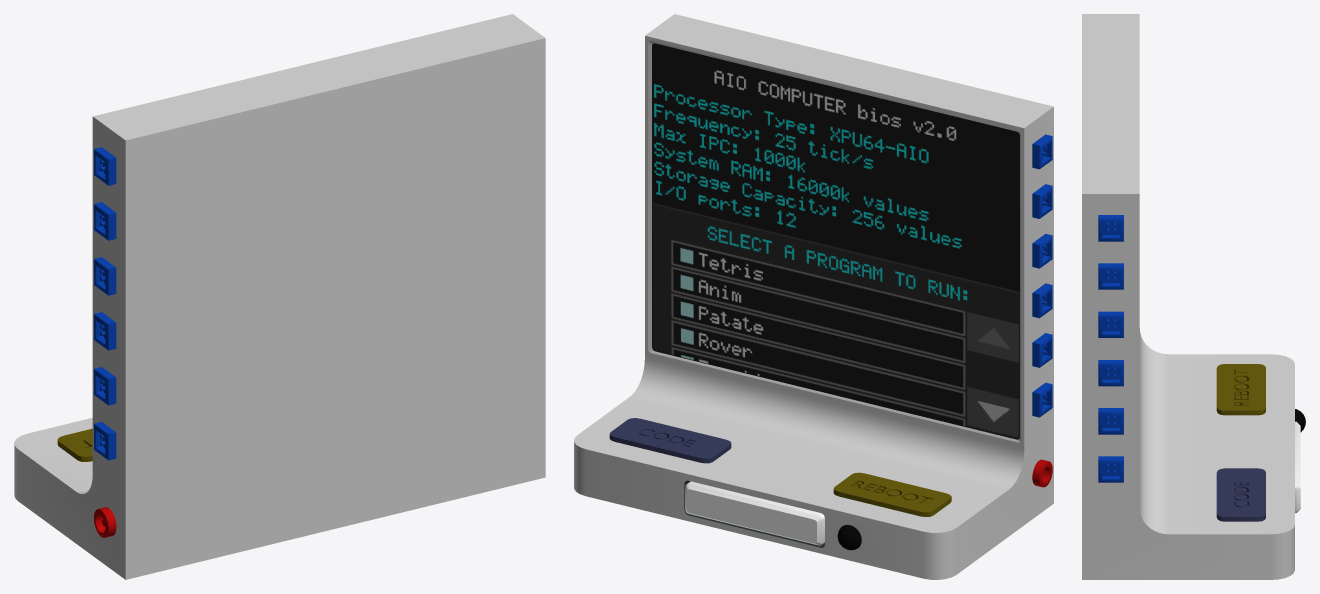
The model's file is Computer.gltf.
The picture shows the model from 3 angles, left to right: view 1: azimuth 30°, elevation 25°; view 2: azimuth 150°, elevation 25°; view 3: azimuth 270°, elevation 25°; orthographic projection. The views are drawn at different scales.
Parts seen in each view (by area): view 1: console; view 2: console, hdd; view 3: console, hdd.
Part boxes in pixels (x1=…): console: x1=14, y1=14, x2=545, y2=579; console: x1=574, y1=14, x2=1053, y2=579; hdd: x1=685, y1=481, x2=824, y2=545; console: x1=1082, y1=14, x2=1305, y2=579; hdd: x1=1295, y1=421, x2=1300, y2=513.
Bounding box in the file's own units: 1.04 × 1 × 0.5257.
9 materials, 1 textured.
